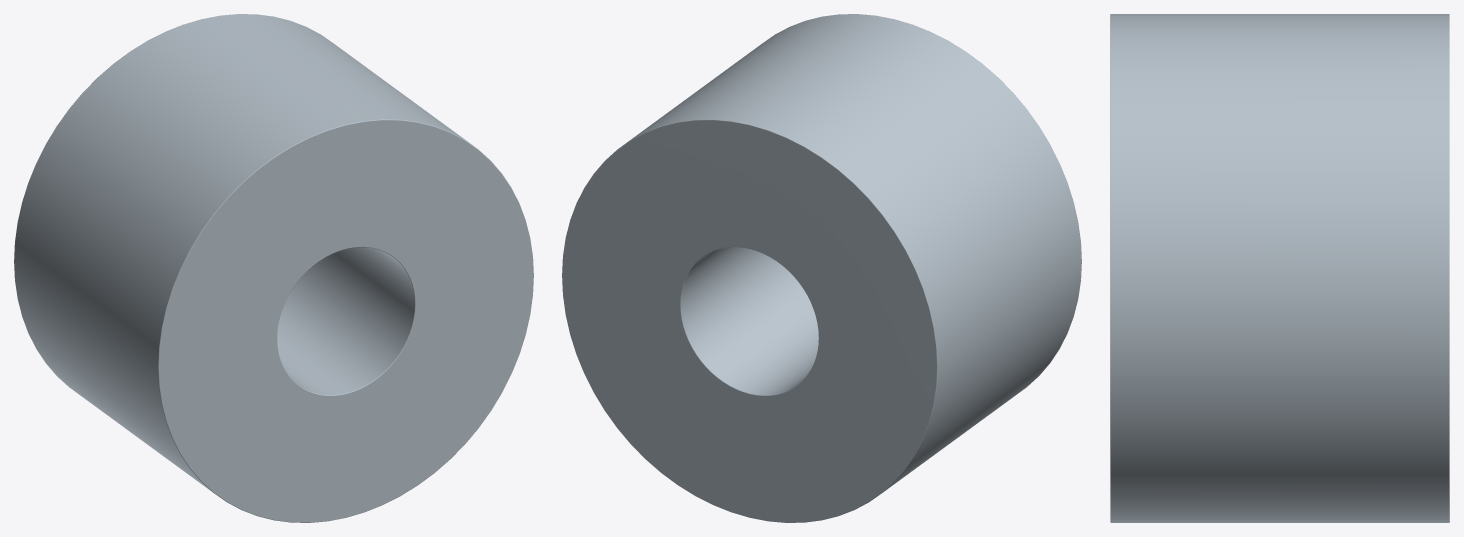
Rendered from Material_Coil.fbx.
3 renders of one model, left to right at view 1: azimuth 30°, elevation 25°; view 2: azimuth 150°, elevation 25°; view 3: azimuth 270°, elevation 25°, orthographic. The views are drawn at different scales.
Visible parts, largest first — view 1: WoundSheet; view 2: WoundSheet; view 3: WoundSheet.
Part boxes in pixels (x1,y1,x2,y2): WoundSheet: [14, 14, 533, 522]; WoundSheet: [562, 14, 1081, 522]; WoundSheet: [1110, 14, 1449, 522].
Bounding box in the file's own units: 1.2 × 1.2 × 0.8.
